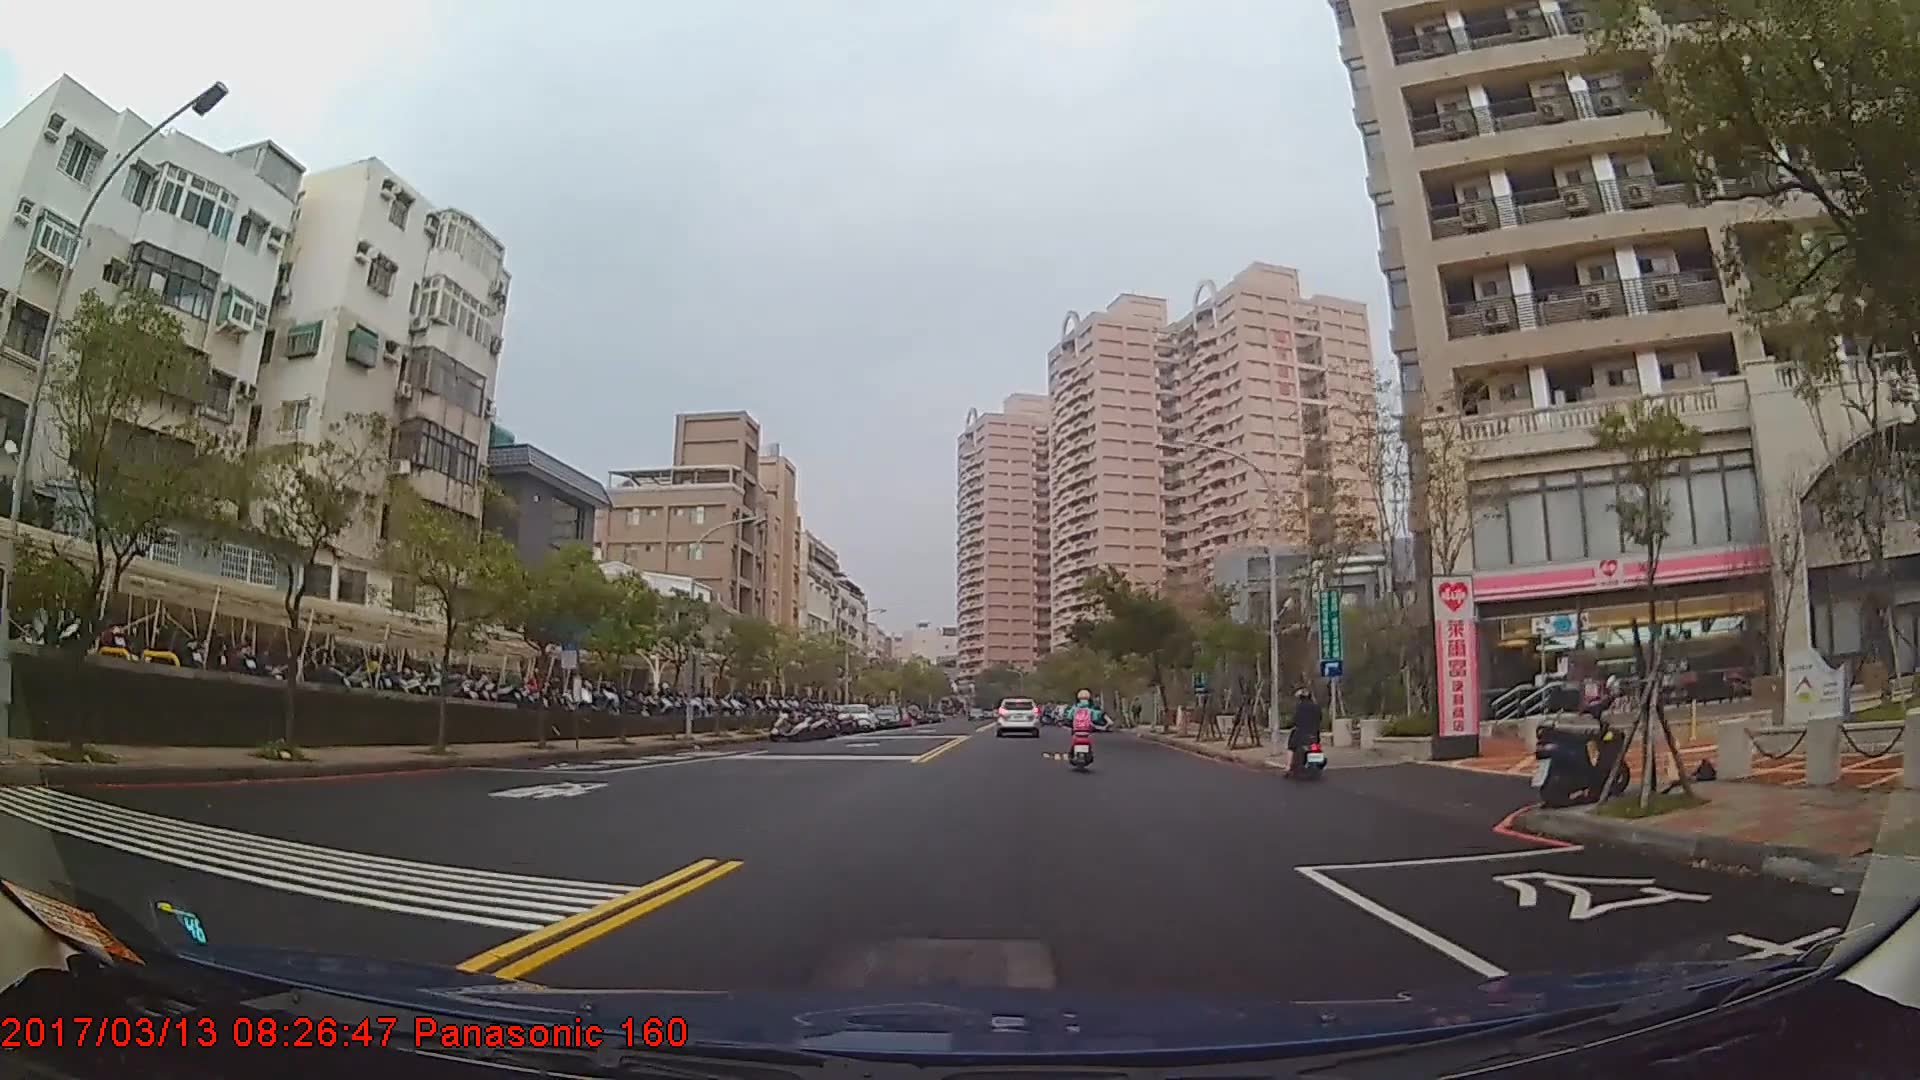rider: (1285, 687, 1329, 776), (1065, 691, 1103, 771)
vehicle: (992, 695, 1043, 737), (836, 703, 874, 731)
